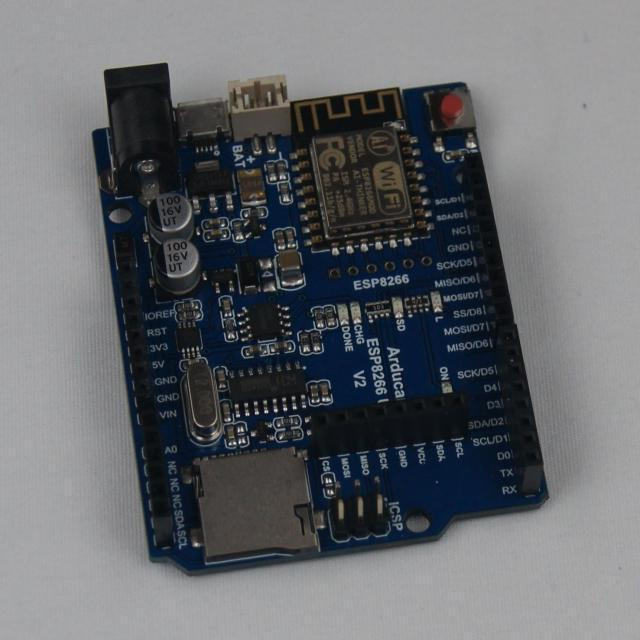Arduino Uno Camera Shield: (93, 65, 548, 572)
